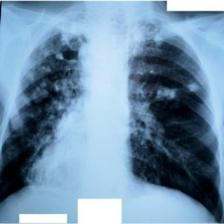tuberculosis: (1, 19, 224, 224)
